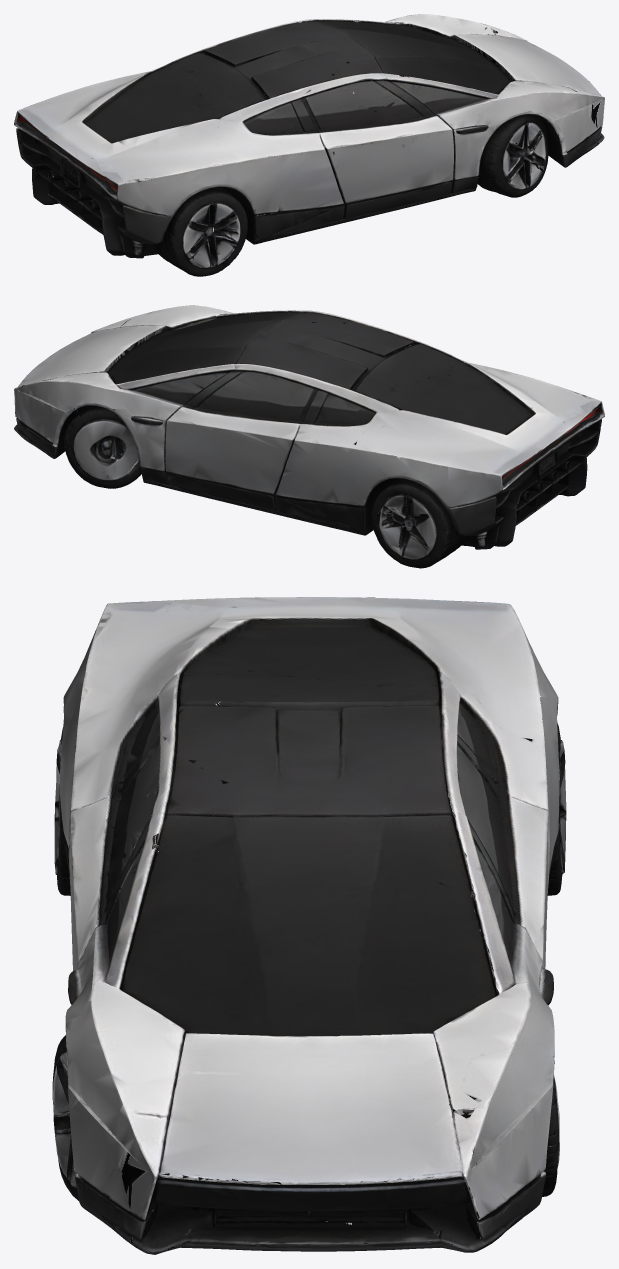
Rendered from roadster-drive.glb.
3 renders of one model, top to bottom at view 1: azimuth 30°, elevation 25°; view 2: azimuth 150°, elevation 25°; view 3: azimuth 270°, elevation 25°, orthographic. The views are drawn at different scales.
Visible parts, largest first — view 1: RoadsterBody, wheel_rear_right, wheel_front_right; view 2: RoadsterBody, wheel_rear_left, wheel_front_left; view 3: RoadsterBody, wheel_front_right, wheel_rear_left, wheel_rear_right, wheel_front_left.
Part boxes in pixels (bbox=[...]): RoadsterBody: bbox=[14, 14, 604, 258]; wheel_rear_right: bbox=[152, 187, 247, 276]; wheel_front_right: bbox=[478, 114, 559, 197]; RoadsterBody: bbox=[14, 305, 604, 549]; wheel_rear_left: bbox=[371, 478, 466, 568]; wheel_front_left: bbox=[58, 405, 140, 488]; RoadsterBody: bbox=[60, 597, 559, 1254]; wheel_front_right: bbox=[52, 1035, 78, 1200]; wheel_rear_left: bbox=[547, 723, 566, 895]; wheel_rear_right: bbox=[54, 727, 70, 895]; wheel_front_left: bbox=[542, 1075, 559, 1196].
Size of the model in its own units: 4.7 by 1.24 by 2.04.
1 material, 1 textured.
